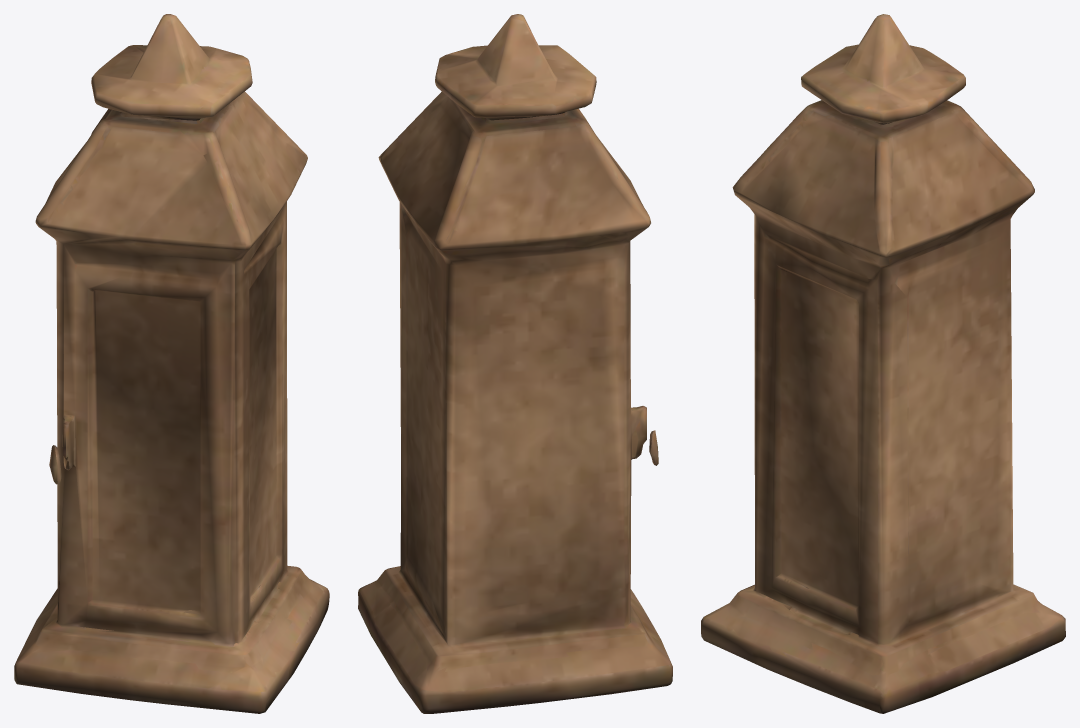
File: weathered-sandstone-lantern-v001.glb
3 views of the same model, side by side, from view 1: azimuth 30°, elevation 25°; view 2: azimuth 150°, elevation 25°; view 3: azimuth 270°, elevation 25° (orthographic).
Parts seen in each view (by area): view 1: weathered-sandstone-lantern; view 2: weathered-sandstone-lantern; view 3: weathered-sandstone-lantern.
Boxes of the visible parts, x1=… form: weathered-sandstone-lantern: x1=14, y1=14, x2=329, y2=713; weathered-sandstone-lantern: x1=358, y1=14, x2=672, y2=713; weathered-sandstone-lantern: x1=701, y1=14, x2=1065, y2=713.
Bounding box in the file's own units: 0.5025 × 0.9698 × 0.5131.
1 material, 1 textured.
